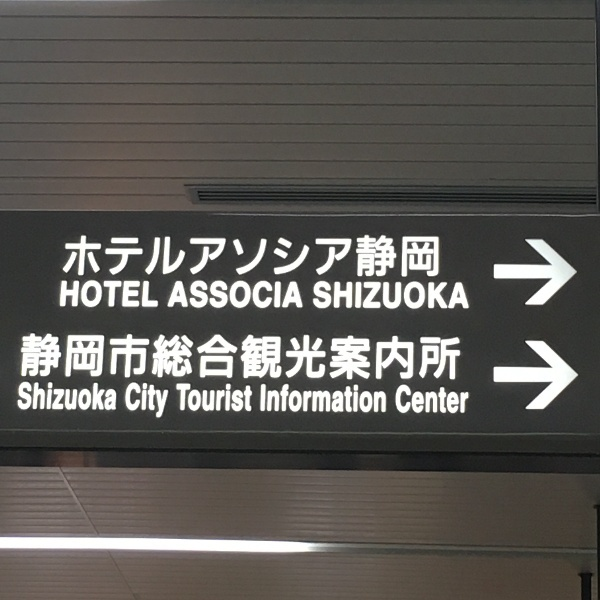text: (33, 329, 48, 386), (49, 329, 64, 386), (65, 329, 80, 386), (81, 329, 96, 386), (97, 329, 112, 386), (113, 329, 128, 386), (129, 329, 144, 386), (145, 329, 160, 386), (161, 329, 176, 386), (177, 329, 192, 386), (193, 329, 208, 386), (209, 329, 224, 386), (225, 329, 240, 386), (241, 329, 256, 386), (257, 329, 272, 386), (273, 329, 288, 386), (289, 329, 304, 386), (305, 329, 320, 386), (321, 329, 336, 386), (337, 329, 352, 386), (353, 329, 368, 386), (369, 329, 384, 386), (385, 329, 400, 386), (401, 329, 416, 386), (417, 329, 432, 386), (433, 329, 448, 386), (449, 329, 462, 386), (65, 233, 80, 280), (81, 233, 96, 280), (97, 233, 112, 280), (113, 233, 128, 280), (129, 233, 144, 280), (145, 233, 160, 280), (161, 233, 176, 280), (177, 233, 192, 280), (193, 233, 208, 280), (209, 233, 224, 280), (225, 233, 240, 280), (241, 233, 256, 280), (257, 233, 272, 280), (273, 233, 288, 280), (289, 233, 304, 280), (305, 233, 320, 280), (321, 233, 336, 280), (337, 233, 352, 280), (353, 233, 368, 280), (369, 233, 384, 280), (385, 233, 400, 280), (401, 233, 416, 280), (417, 233, 432, 280), (129, 377, 144, 423), (145, 377, 160, 423), (21, 329, 32, 386), (273, 382, 288, 421), (289, 382, 304, 421), (305, 382, 320, 421), (321, 382, 336, 421), (337, 382, 352, 421), (353, 382, 368, 421), (369, 382, 384, 421), (65, 277, 80, 314), (81, 277, 96, 314), (97, 277, 112, 314), (113, 277, 128, 314), (129, 277, 144, 314), (145, 277, 160, 314), (321, 276, 336, 313), (337, 276, 352, 313), (353, 276, 368, 313), (369, 276, 384, 313), (385, 276, 400, 313), (401, 276, 416, 313), (417, 276, 432, 313), (433, 276, 448, 313), (449, 276, 464, 313), (401, 383, 416, 419), (417, 383, 432, 419), (433, 383, 448, 419), (449, 383, 464, 419), (177, 277, 192, 312), (193, 277, 208, 312), (209, 277, 224, 312), (225, 277, 240, 312), (241, 277, 256, 312), (257, 277, 272, 312), (273, 277, 288, 312), (289, 277, 304, 312), (17, 381, 32, 416), (33, 381, 48, 416), (49, 381, 64, 416), (65, 381, 80, 416), (81, 381, 96, 416), (97, 381, 112, 416), (177, 382, 192, 417), (193, 382, 208, 417), (209, 382, 224, 417), (225, 382, 240, 417), (259, 382, 272, 421), (161, 377, 172, 423), (241, 382, 255, 417), (433, 233, 443, 280), (465, 276, 473, 313), (313, 276, 320, 313), (465, 383, 472, 419), (113, 381, 120, 416), (394, 383, 400, 419), (385, 382, 390, 421), (124, 377, 128, 423), (60, 277, 64, 314), (173, 277, 176, 312), (161, 277, 163, 314), (305, 277, 306, 312)
